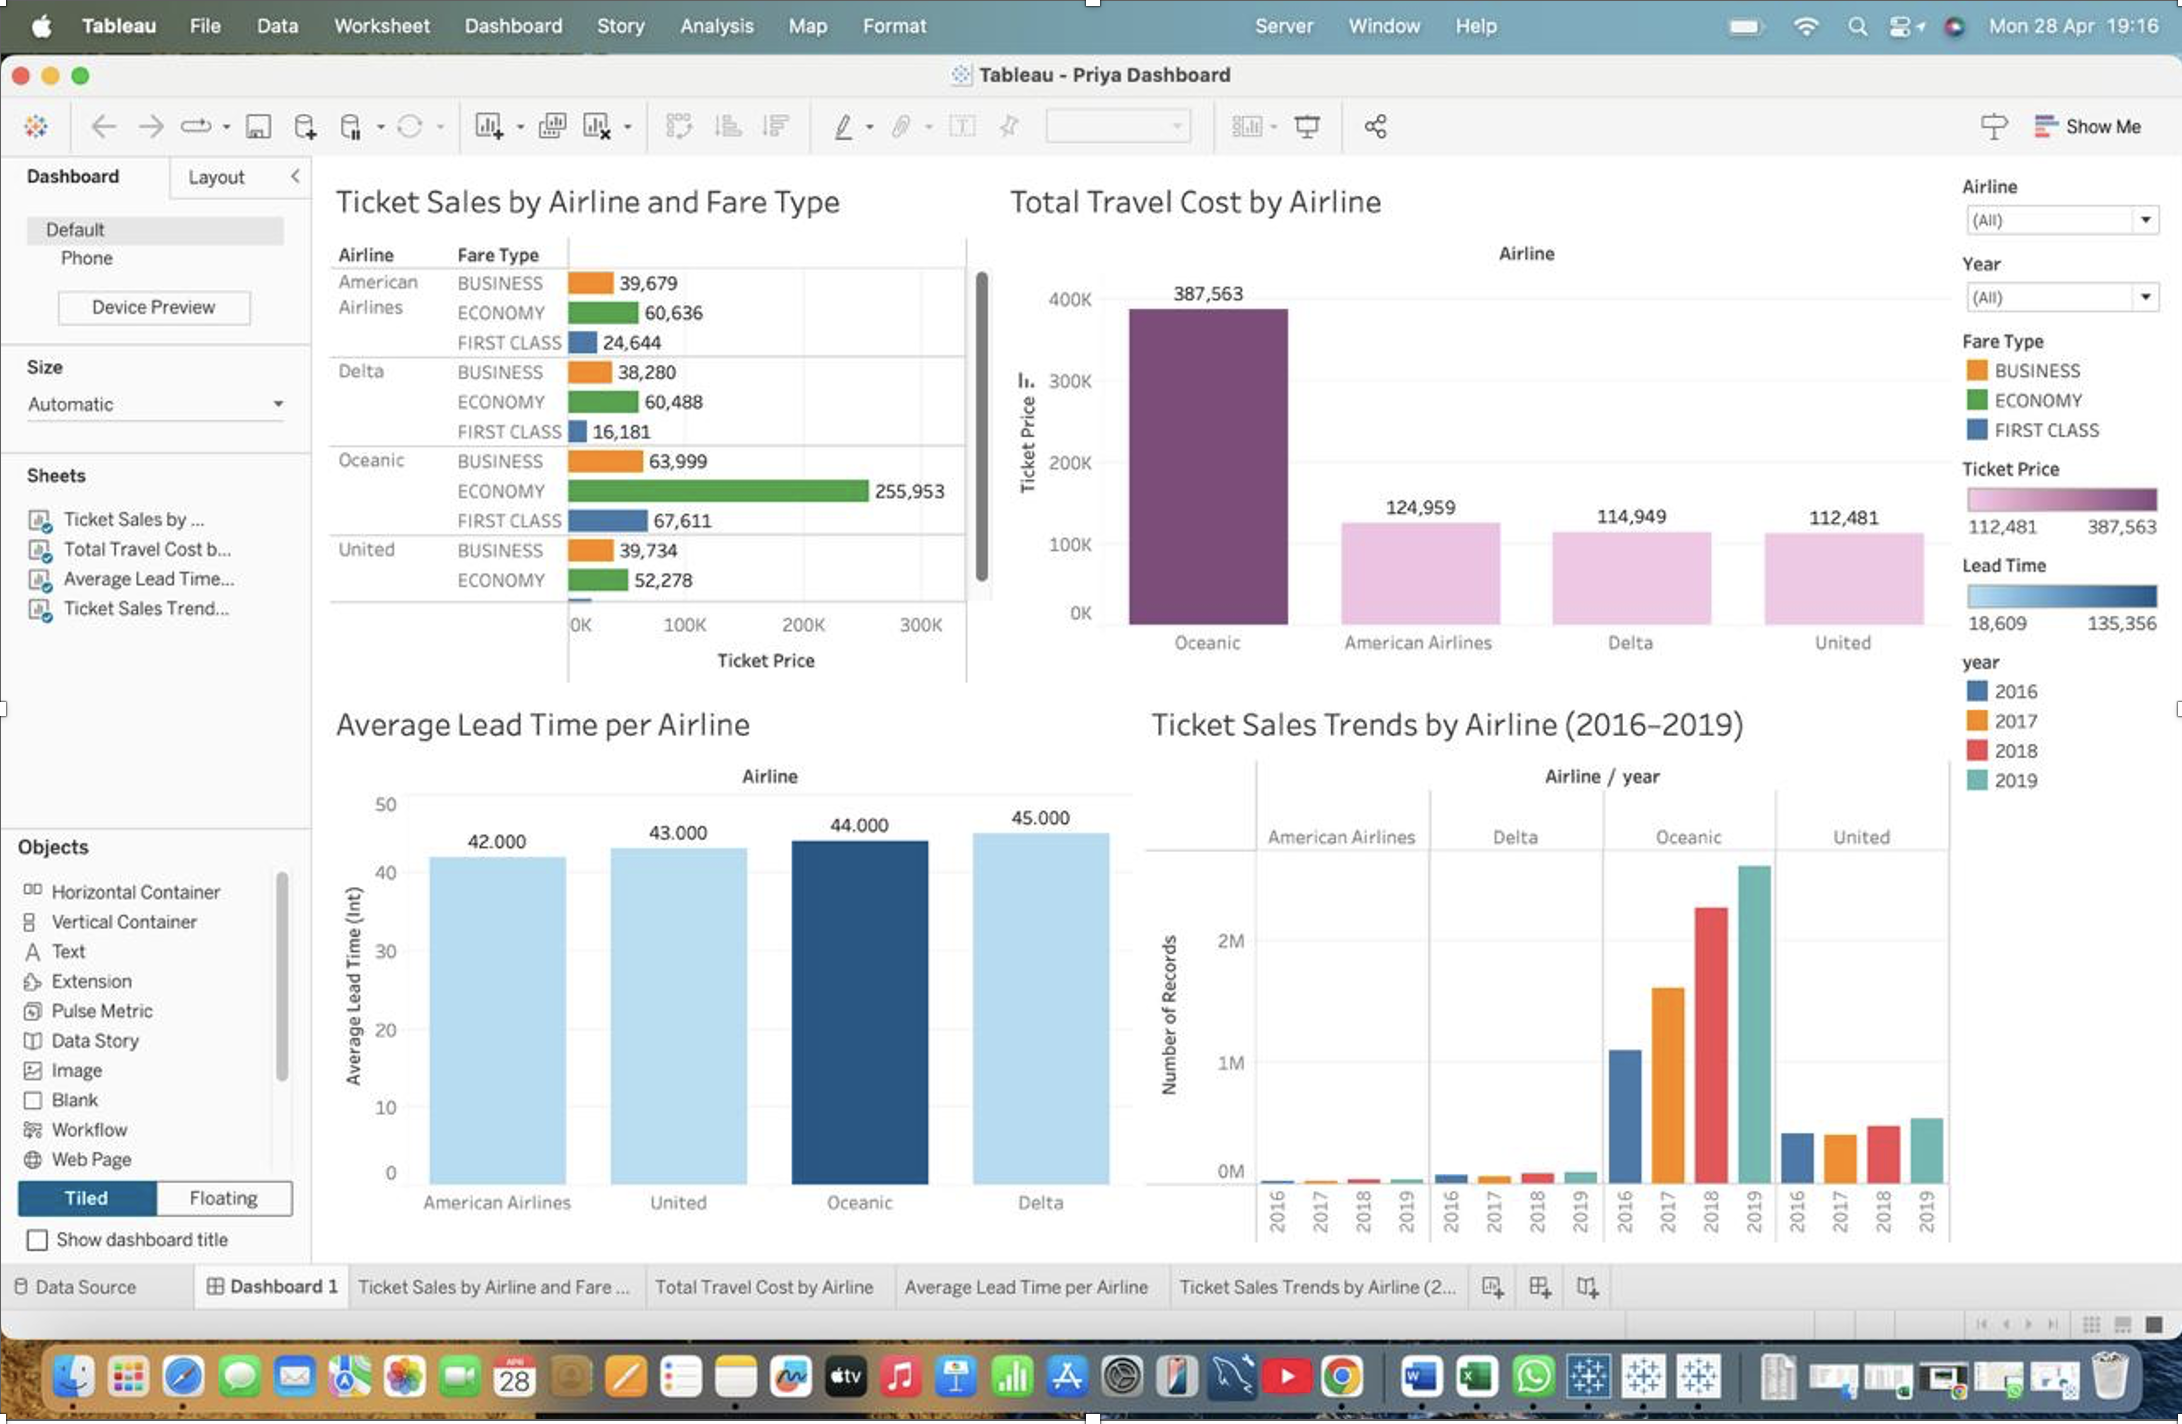

The dashboard page shown, as its layout file describes it:
{"tool":"tableau","page":{"name":"Dashboard 1","canvas":[1000,1000],"units":"permille","ordinal":0},"visuals":[{"type":"worksheet","title":"Ticket Sales by Airline and Fare Type","mark":"Automatic","rows":["Airline","Fare Type"],"cols":["Ticket Price"],"box":[6.4,10.8,360.6,473.1]},{"type":"worksheet","title":"Total Travel Cost by Airline","mark":"Automatic","rows":["Ticket Price"],"cols":["Airline"],"box":[367,10.8,512.3,473.1]},{"type":"filter","title":"Average Lead Time per Airline","param":"[federated.1xwde1b0ue7d2z1eq4arz1j7mpg0].[none:Airline:nk]","box":[879.3,10.8,114.4,69.9]},{"type":"filter","title":"Ticket Sales Trends by Airline (2016–2019)","param":"[federated.1xwde1b0ue7d2z1eq4arz1j7mpg0].[none:Calculation_2170523918354264065:n","box":[879.3,80.6,114.4,69.9]},{"type":"legend","title":"Ticket Sales by Airline and Fare Type","param":"[federated.1xwde1b0ue7d2z1eq4arz1j7mpg0].[none:Fare Type:nk]","box":[879.3,150.5,114.4,115.6]},{"type":"legend","title":"Total Travel Cost by Airline","param":"[federated.1xwde1b0ue7d2z1eq4arz1j7mpg0].[sum:Ticket Price:qk]","box":[879.3,266.1,114.4,87.4]},{"type":"legend","title":"Average Lead Time per Airline","param":"[federated.1xwde1b0ue7d2z1eq4arz1j7mpg0].[sum:Calculation_2170523918357946371:qk","box":[879.3,353.5,114.4,87.4]},{"type":"legend","title":"Ticket Sales Trends by Airline (2016–2019)","param":"[federated.1xwde1b0ue7d2z1eq4arz1j7mpg0].[none:Calculation_2170523918362238981:o","box":[879.3,440.8,114.4,142.5]},{"type":"worksheet","title":"Average Lead Time per Airline","mark":"Automatic","rows":["Calculation_2170523918359666692"],"cols":["Airline"],"box":[6.4,483.9,436.5,505.4]},{"type":"worksheet","title":"Ticket Sales Trends by Airline (2016–2019)","mark":"Automatic","rows":["Calculation_2170523918377951244"],"cols":["Airline","Calculation_2170523918362238981"],"box":[442.8,483.9,436.5,505.4]}]}

Visuals, with their boxes on the dashboard's canvas, which has no fixed pixel size, in thousandths of its width and height (x1, y1, x2, y2). These are canvas units, not pixel positions in the 2182x1424 screenshot, which may show the page scaled, cropped or inside an application window:
"Ticket Sales by Airline and Fare Type" worksheet: <region>6, 11, 367, 484</region>
"Total Travel Cost by Airline" worksheet: <region>367, 11, 879, 484</region>
"Average Lead Time per Airline" filter: <region>879, 11, 994, 81</region>
"Ticket Sales Trends by Airline (2016–2019)" filter: <region>879, 81, 994, 150</region>
"Ticket Sales by Airline and Fare Type" legend: <region>879, 150, 994, 266</region>
"Total Travel Cost by Airline" legend: <region>879, 266, 994, 354</region>
"Average Lead Time per Airline" legend: <region>879, 354, 994, 441</region>
"Ticket Sales Trends by Airline (2016–2019)" legend: <region>879, 441, 994, 583</region>
"Average Lead Time per Airline" worksheet: <region>6, 484, 443, 989</region>
"Ticket Sales Trends by Airline (2016–2019)" worksheet: <region>443, 484, 879, 989</region>
